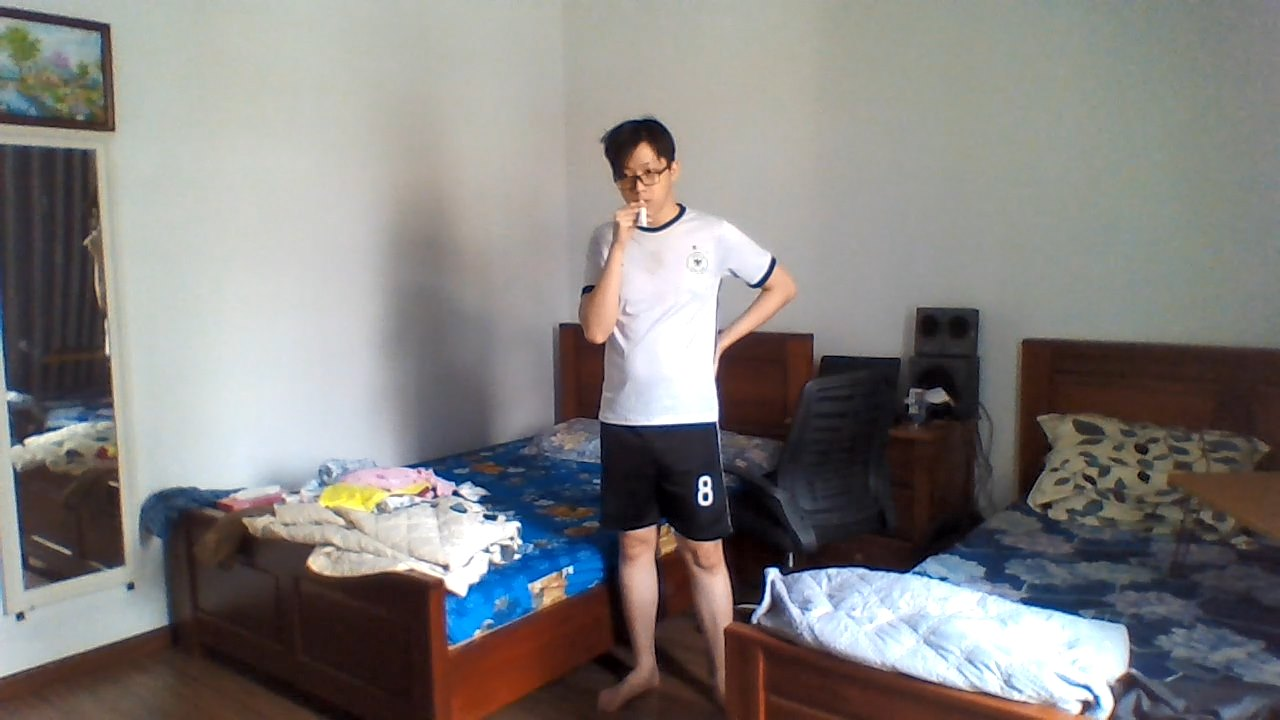cigarette: (639, 205, 648, 230)
person: (559, 106, 762, 720)
